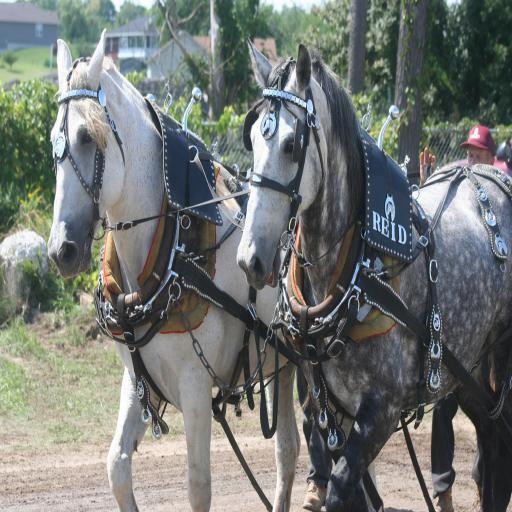horse: (47, 28, 377, 512), (236, 36, 512, 512)
